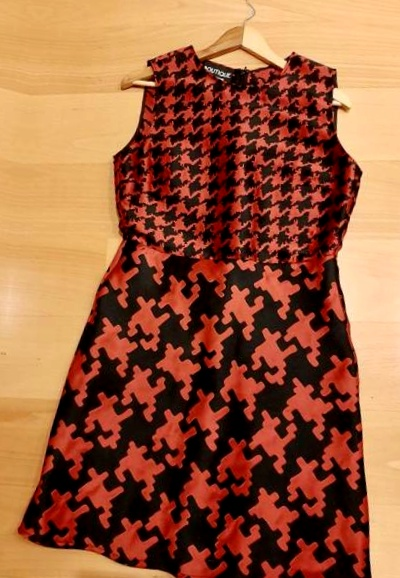Dress: (17, 24, 400, 578), (397, 64, 400, 578), (0, 0, 2, 563), (81, 0, 400, 2)
